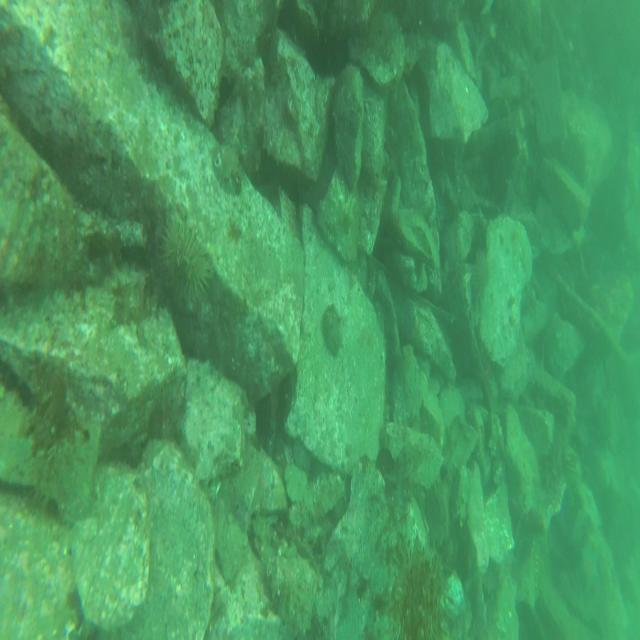echinus: (151, 212, 214, 309)
